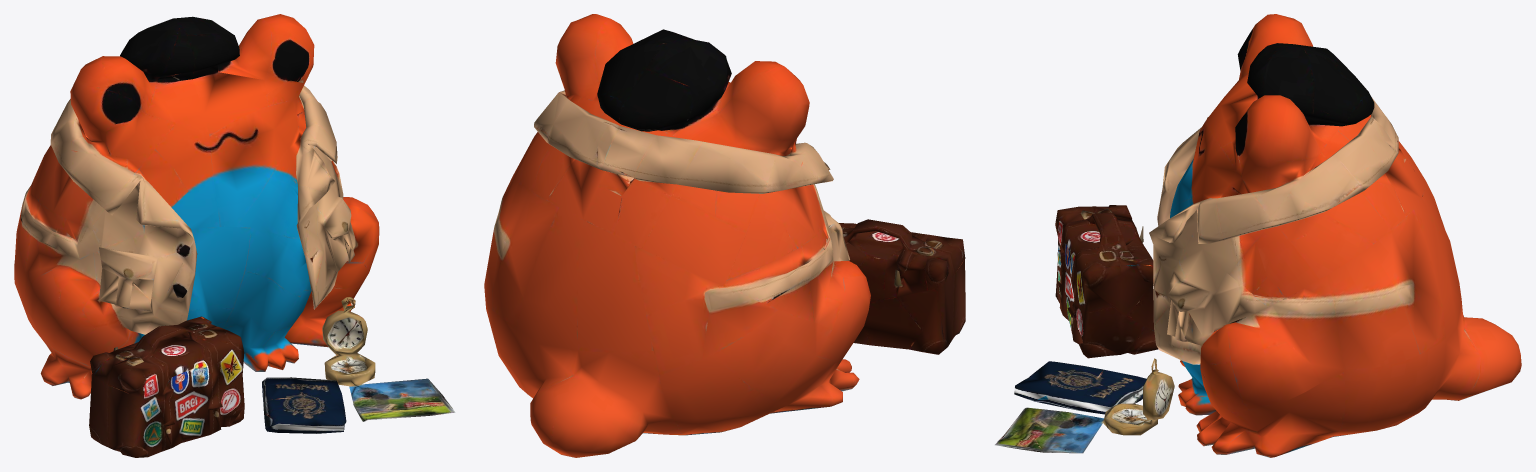
Rendered from exploratrice.glb.
3 renders of one model, left to right at view 1: azimuth 30°, elevation 25°; view 2: azimuth 150°, elevation 25°; view 3: azimuth 270°, elevation 25°, orthographic. The views are drawn at different scales.
Parts seen in each view (by area): view 1: mesh_node; view 2: mesh_node; view 3: mesh_node.
Boxes of the visible parts, x1,y1,x2,y2 form: mesh_node: (14, 14, 455, 457); mesh_node: (484, 14, 965, 457); mesh_node: (995, 14, 1521, 457).
Bounding box in the file's own units: 1.49 × 1.32 × 1.9.
1 material, 1 textured.
